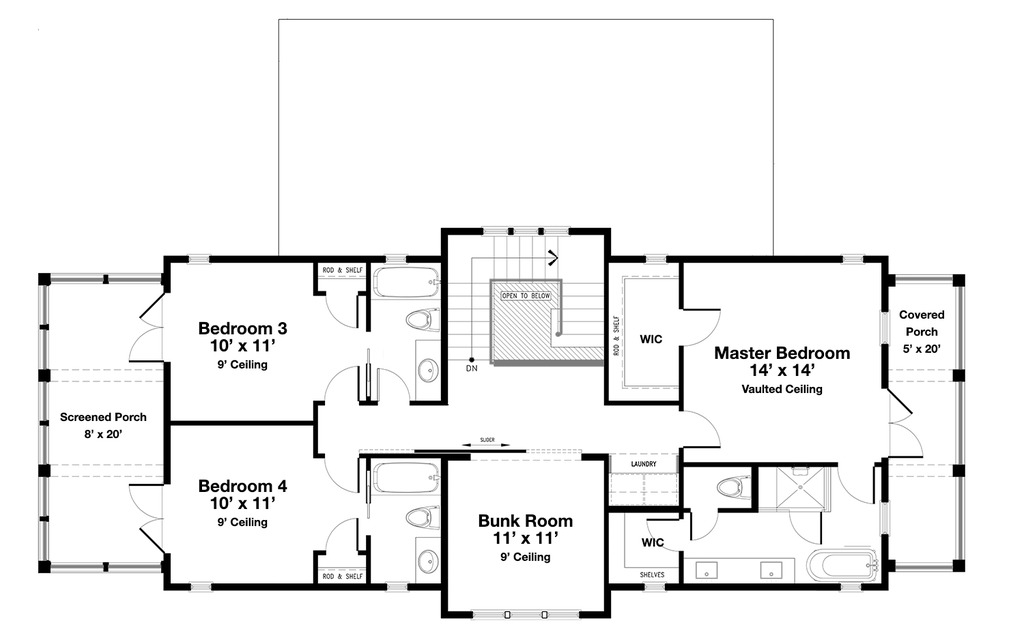door: (126, 480, 169, 553), (882, 387, 925, 459), (129, 293, 167, 365), (832, 460, 875, 506), (320, 516, 365, 559), (676, 306, 722, 346), (679, 411, 723, 450), (320, 455, 362, 495), (786, 503, 825, 544), (323, 363, 361, 404), (374, 365, 409, 408), (326, 290, 362, 328), (647, 515, 683, 550), (686, 508, 720, 542)
large_sink: (713, 472, 757, 506), (403, 503, 439, 534), (403, 303, 440, 332)
small_sink: (676, 557, 796, 586), (412, 337, 444, 402), (412, 535, 440, 584)
stairs: (444, 233, 607, 370)
tub: (368, 457, 443, 495), (370, 263, 444, 301), (804, 548, 878, 584)
windows: (481, 222, 574, 237), (469, 610, 581, 619), (878, 499, 894, 537), (879, 309, 891, 351), (184, 255, 210, 267), (188, 582, 212, 593)
